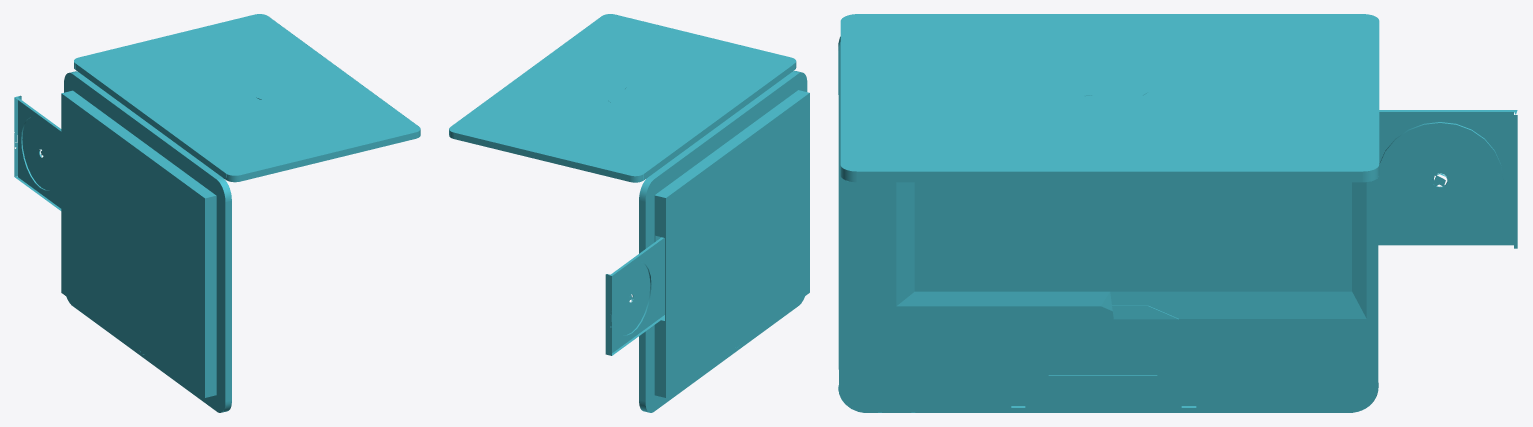
3 renders of one model, left to right at view 1: azimuth 30°, elevation 25°; view 2: azimuth 150°, elevation 25°; view 3: azimuth 270°, elevation 25°, orthographic. The views are drawn at different scales.
Visible parts, largest first — view 1: Renderer Node; view 2: Renderer Node; view 3: Renderer Node.
Part boxes in pixels (bbox=[...]): Renderer Node: bbox=[14, 14, 420, 412]; Renderer Node: bbox=[449, 14, 809, 412]; Renderer Node: bbox=[838, 14, 1517, 412].
Bounding box in the file's own units: 0.4488 × 0.4865 × 0.7496.
Materials: 1 (1 with a texture image).
